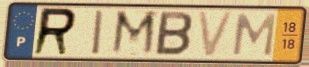B: (153, 10, 195, 58)
I: (90, 8, 106, 57)
M: (109, 9, 160, 59), (229, 12, 278, 58)
R: (30, 6, 79, 57)
V: (195, 9, 238, 59)
